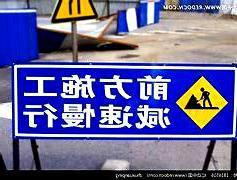sign: (13, 64, 236, 138)
